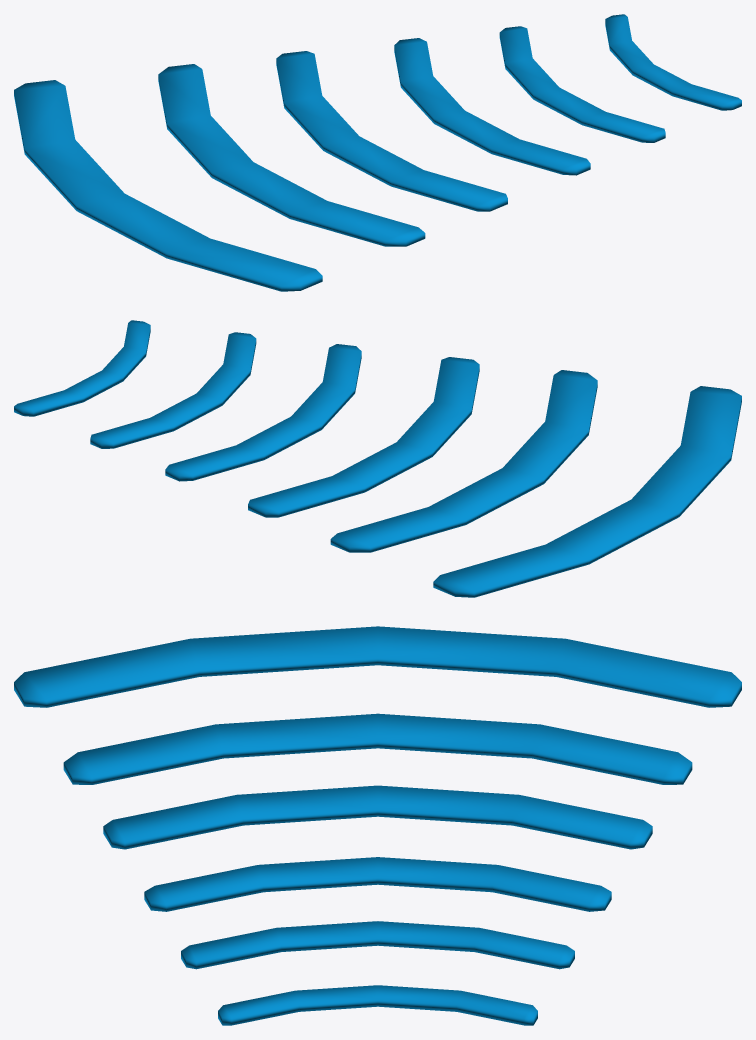
The model's file is wake.dae.
3 renders of one model, top to bottom at view 1: azimuth 30°, elevation 25°; view 2: azimuth 150°, elevation 25°; view 3: azimuth 270°, elevation 25°, orthographic. The views are drawn at different scales.
Visible parts, largest first — view 1: Circle; view 2: Circle; view 3: Circle.
Part boxes in pixels (x1,y1,x2,y2): Circle: (14,14,741,291); Circle: (14,320,741,597); Circle: (14,626,741,1025).
Bounding box in the file's own units: 15.16 × 11.92 × 0.1424.
